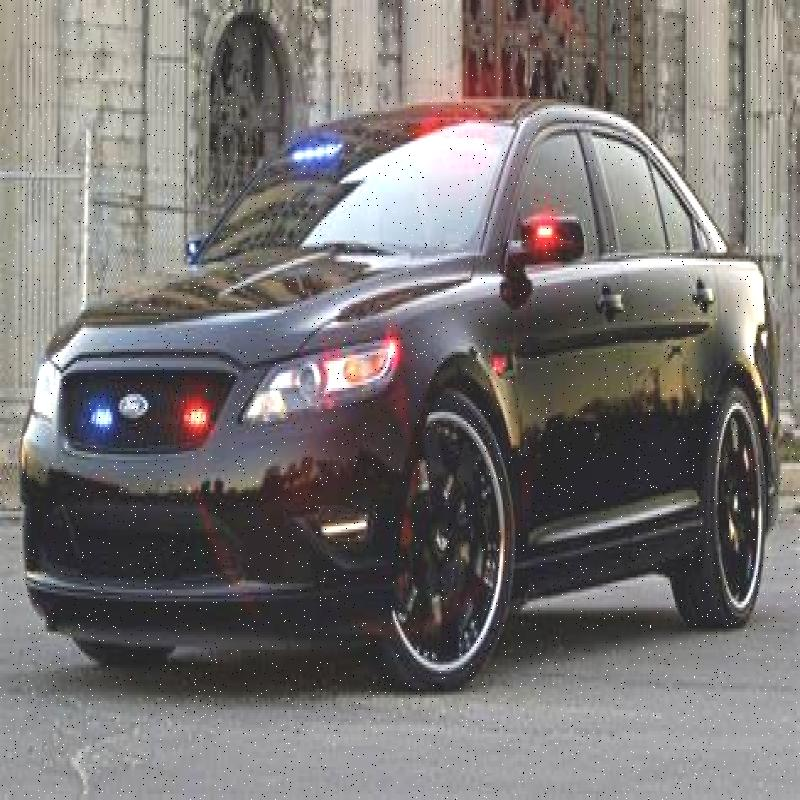AmbulanceSiren: (276, 82, 480, 174)
